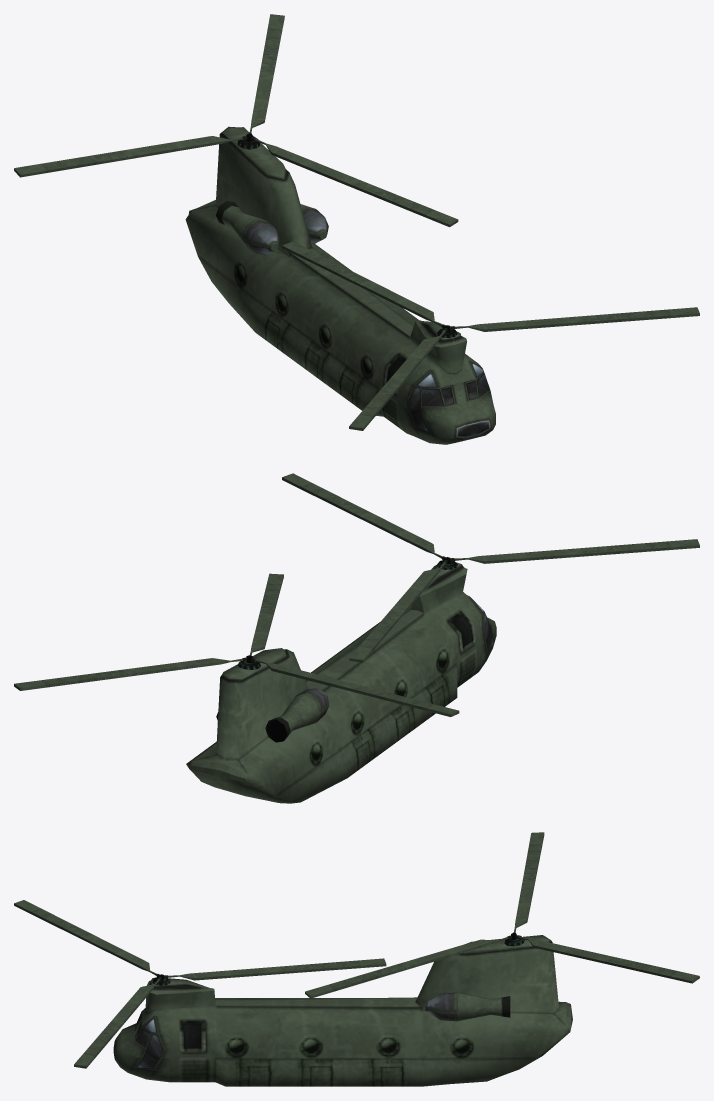
The picture shows the model from 3 angles, top to bottom: view 1: azimuth 30°, elevation 25°; view 2: azimuth 150°, elevation 25°; view 3: azimuth 270°, elevation 25°; orthographic projection. The views are drawn at different scales.
Parts seen in each view (by area): view 1: headusOBJexport, Object005, Object003; view 2: headusOBJexport, Object003, Object005; view 3: headusOBJexport, Object005, Object003.
Part boxes in pixels (bbox=[...]): headusOBJexport: bbox=[185, 126, 495, 444]; Object005: bbox=[14, 14, 458, 227]; Object003: bbox=[281, 241, 699, 430]; headusOBJexport: bbox=[186, 557, 496, 803]; Object003: bbox=[282, 473, 699, 662]; Object005: bbox=[14, 573, 459, 716]; headusOBJexport: bbox=[113, 933, 572, 1086]; Object005: bbox=[305, 832, 699, 998]; Object003: bbox=[14, 900, 386, 1068].
Bounding box in the file's own units: 575 × 214 × 898.
